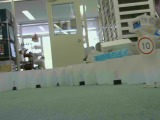speed_10: (137, 37, 155, 55)
